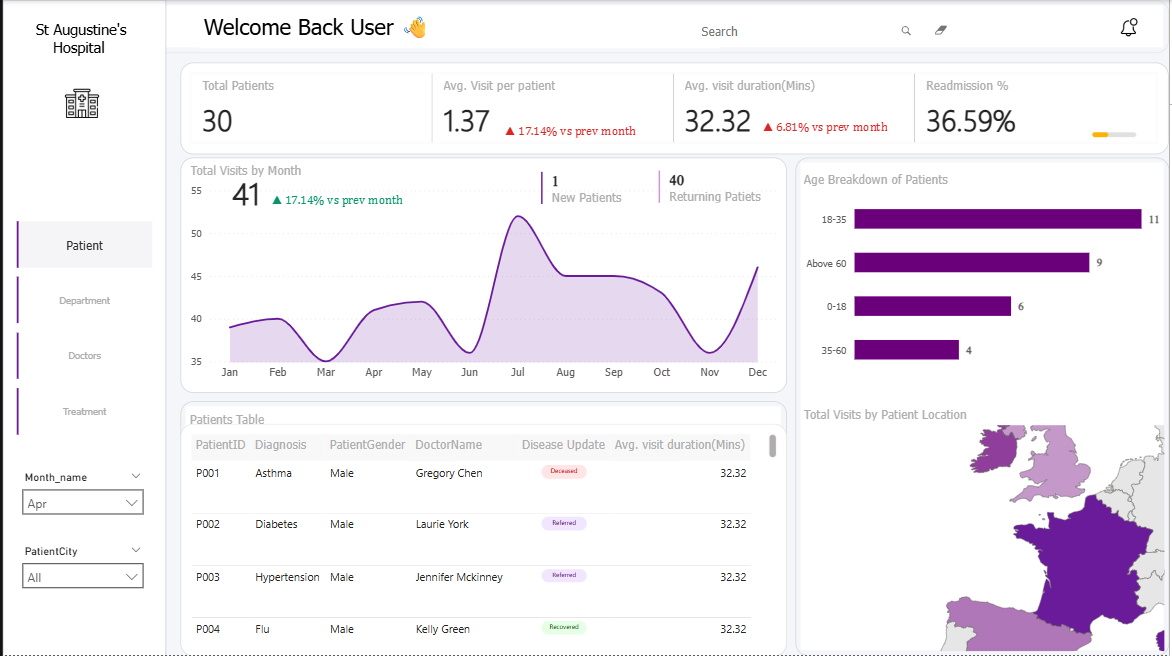

The dashboard page shown, as its layout file describes it:
{"tool":"powerbi","page":{"name":"Patient","canvas":[1280,720],"ordinal":0},"visuals":[{"type":"lineChart","title":"Total Visits by Month","fields":{"Y":["CountNonNull(FactTable.VisitID)"],"Category":["Calendar.Month_name"]},"box":[195.3,172.9,665.5,258.7],"z":0},{"type":"shape","box":[195.3,440.4,665.5,279.9],"z":1000},{"type":"shape","box":[869.5,172.9,410.5,547.3],"z":2000},{"type":"shape","box":[0,0,1280,58.5],"z":3000},{"type":"shape","box":[0,0,179.1,720.3],"z":4000},{"type":"textbox","box":[215.2,8.7,571,44.8],"z":5000},{"type":"textbox","box":[11.2,17.4,149.3,70.9],"z":6000},{"type":"pageNavigator","box":[14.9,242.6,149.3,235.1],"z":7000},{"type":"cardVisual","fields":{"Data":["Calculations.Total Patients","Calculations.New Patients","Calculations.Returning Patient","Calculations.Readmission %"]},"box":[195.3,68.4,1084.7,100.8],"z":8000},{"type":"clusteredBarChart","fields":{"Category":["Patient_Dim.Patient Age Group"],"Y":["CountNonNull(Patient_Dim.PatientID)"]},"box":[869.5,197.8,405.5,223.9],"z":9000},{"type":"multiRowCard","fields":{"Values":["FactTable.VisitID"]},"box":[585.9,183.9,105.7,53.5],"z":10000},{"type":"multiRowCard","fields":{"Values":["FactTable.VisitID"]},"box":[715.3,182.9,140.6,53.5],"z":11000},{"type":"tableEx","fields":{"Values":["Patient_Dim.PatientID","Patient_Dim.PatientGender","FactTable.HasChronicIllness","Patient_Dim.PatientMaritalStatus","Calculations.Total Visit","FactTable.Pill Category","Avg(FactTable.VisitDurationMinutes)"]},"box":[195.3,465.2,665.5,255],"z":12000},{"type":"shapeMap","title":"Total Visits by Patient Location","fields":{"Value":["Calculations.Total Visit"],"Category":["Patient_Dim.PatientCity"]},"box":[874.5,446.6,405.5,273.7],"z":13000},{"type":"textbox","box":[874.5,182.9,179.1,48.5],"z":14000},{"type":"card","fields":{"Values":["Calculations.Total Visit"]},"box":[195.3,184.1,144.3,58.5],"z":15000},{"type":"textFilter25A4896A83E0487089E2B90C9AE57C8A","fields":{"field":["Patient_Dim.PatientID"]},"box":[752.6,11.2,301,41.1],"z":16000},{"type":"image","box":[1220.3,14.9,32.3,29.9],"z":17000},{"type":"image","box":[63.4,88.3,47.3,51],"z":18000},{"type":"textbox","box":[200.3,446.6,139.3,48.5],"z":19000},{"type":"cardVisual","fields":{"Data":["Calculations.Total visit MOM"]},"box":[255,185.3,223.9,61],"z":20000},{"type":"slicer","fields":{"Values":["Calendar.Month_name"]},"box":[11.2,511.3,153,58.5],"z":21000},{"type":"cardVisual","fields":{"Data":["Calculations.Total Patients MOM"]},"box":[227.6,108.2,223.9,61],"z":22000},{"type":"cardVisual","fields":{"Data":["Calculations.New patients MOM"]},"box":[491.4,109.5,223.9,61],"z":23000},{"type":"cardVisual","fields":{"Data":["Calculations.Returning patients MOM"]},"box":[757.6,110.7,223.9,61],"z":24000},{"type":"cardVisual","fields":{"Data":["Calculations.Readmission %"]},"box":[1119.5,113.2,160.5,69.7],"z":25000},{"type":"slicer","fields":{"Values":["Patient_Dim.PatientCity"]},"box":[11,593.4,153,58.5],"z":26000}]}

Visuals, with their boxes on the page's 1280x720 design canvas (x1, y1, x2, y2). These are canvas units, not pixel positions in the 1172x656 screenshot, which may show the page scaled, cropped or inside an application window:
"Total Visits by Month" lineChart: x1=195 y1=173 x2=861 y2=432
shape: x1=195 y1=440 x2=861 y2=720
shape: x1=870 y1=173 x2=1280 y2=720
shape: x1=0 y1=0 x2=1280 y2=58
shape: x1=0 y1=0 x2=179 y2=720
textbox: x1=215 y1=9 x2=786 y2=54
textbox: x1=11 y1=17 x2=160 y2=88
pageNavigator: x1=15 y1=243 x2=164 y2=478
cardVisual - Calculations.Total Patients x Calculations.New Patients: x1=195 y1=68 x2=1280 y2=169
clusteredBarChart - Patient_Dim.Patient Age Group x CountNonNull(Patient_Dim.PatientID): x1=870 y1=198 x2=1275 y2=422
multiRowCard - FactTable.VisitID: x1=586 y1=184 x2=692 y2=237
multiRowCard - FactTable.VisitID: x1=715 y1=183 x2=856 y2=236
tableEx - Patient_Dim.PatientID x Patient_Dim.PatientGender: x1=195 y1=465 x2=861 y2=720
"Total Visits by Patient Location" shapeMap: x1=874 y1=447 x2=1280 y2=720
textbox: x1=874 y1=183 x2=1054 y2=231
card - Calculations.Total Visit: x1=195 y1=184 x2=340 y2=243
textFilter25A4896A83E0487089E2B90C9AE57C8A - Patient_Dim.PatientID: x1=753 y1=11 x2=1054 y2=52
image: x1=1220 y1=15 x2=1253 y2=45
image: x1=63 y1=88 x2=111 y2=139
textbox: x1=200 y1=447 x2=340 y2=495
cardVisual - Calculations.Total visit MOM: x1=255 y1=185 x2=479 y2=246
slicer - Calendar.Month_name: x1=11 y1=511 x2=164 y2=570
cardVisual - Calculations.Total Patients MOM: x1=228 y1=108 x2=452 y2=169
cardVisual - Calculations.New patients MOM: x1=491 y1=110 x2=715 y2=170
cardVisual - Calculations.Returning patients MOM: x1=758 y1=111 x2=982 y2=172
cardVisual - Calculations.Readmission %: x1=1120 y1=113 x2=1280 y2=183
slicer - Patient_Dim.PatientCity: x1=11 y1=593 x2=164 y2=652
